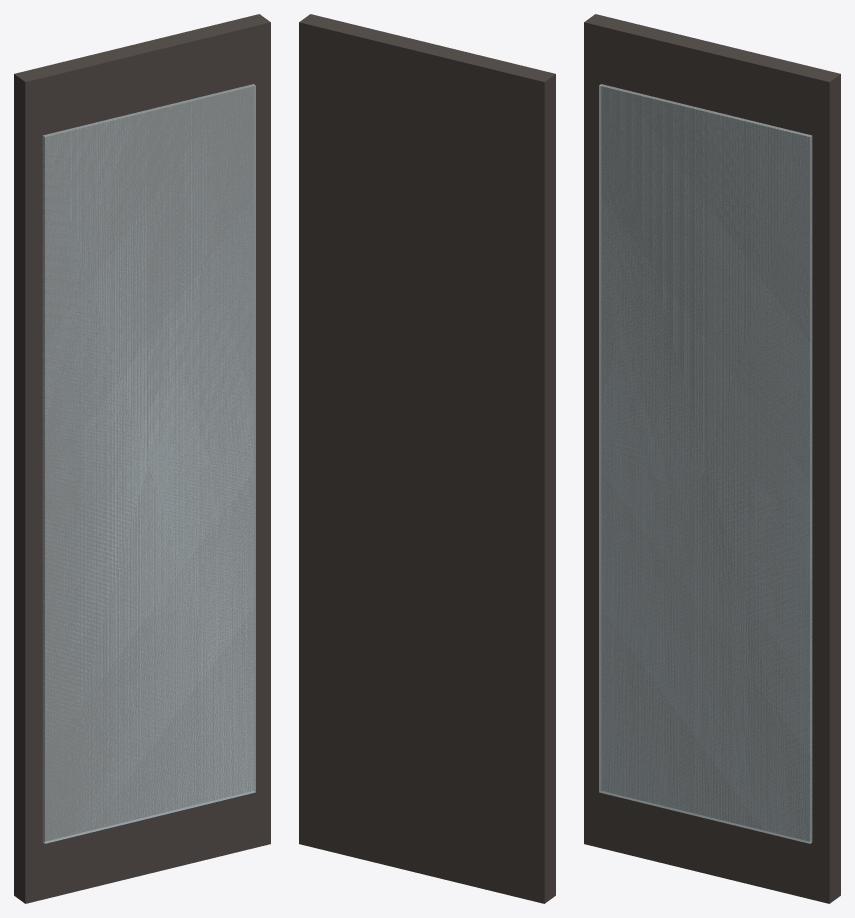
File: mocan-75.glb
3 renders of one model, left to right at view 1: azimuth 30°, elevation 25°; view 2: azimuth 150°, elevation 25°; view 3: azimuth 330°, elevation 25°, orthographic.
Visible parts, largest first — view 1: furniture; view 2: furniture; view 3: furniture.
Part boxes in pixels (left/top/right/bottom): furniture: left=14, top=14, right=270, bottom=903; furniture: left=299, top=14, right=555, bottom=903; furniture: left=584, top=14, right=840, bottom=903.
Size of the model in its own units: 0.5 by 1.6 by 0.048.
